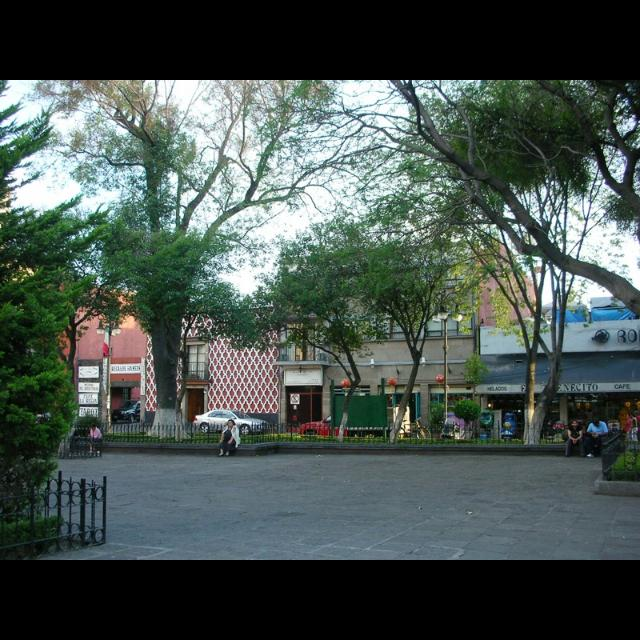head: (592, 419, 600, 428), (228, 420, 236, 428), (571, 419, 579, 427), (91, 424, 97, 432), (626, 413, 632, 419), (632, 413, 636, 419)
person: (586, 415, 614, 461), (563, 417, 589, 459), (217, 418, 243, 458), (86, 423, 105, 457), (622, 412, 634, 450)
